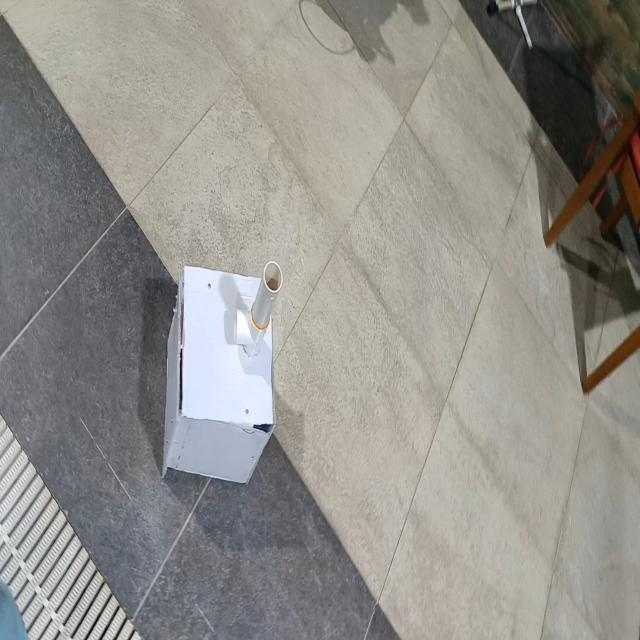Cube: (161, 262, 276, 486)
